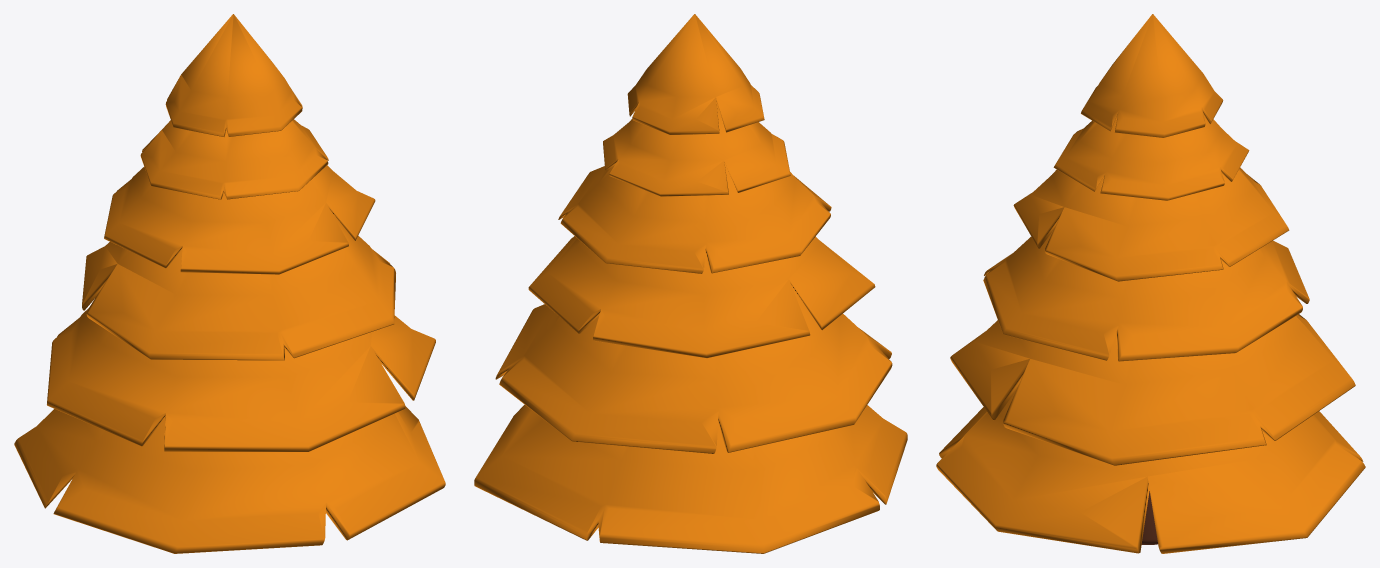
File: Baum.001.fbx
The picture shows the model from 3 angles, left to right: view 1: azimuth 30°, elevation 25°; view 2: azimuth 150°, elevation 25°; view 3: azimuth 270°, elevation 25°; orthographic projection.
Parts seen in each view (by area): view 1: Baum.001; view 2: Baum.001; view 3: Baum.001.
Part boxes in pixels (left/top/right/bottom): Baum.001: left=14, top=14, right=445, bottom=553; Baum.001: left=474, top=14, right=907, bottom=553; Baum.001: left=936, top=14, right=1365, bottom=553.
Bounding box in the file's own units: 150 × 200 × 150.
